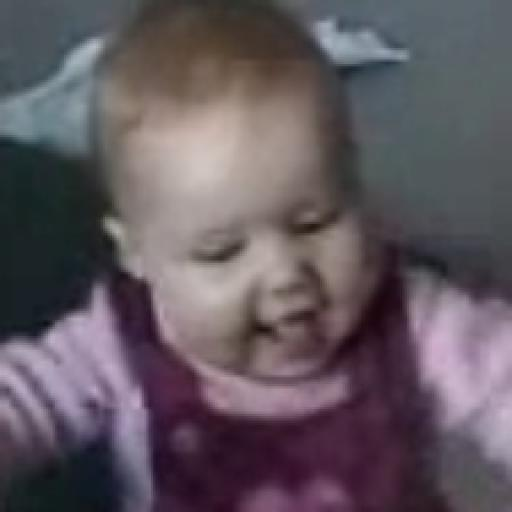Autism: (52, 22, 407, 425)
